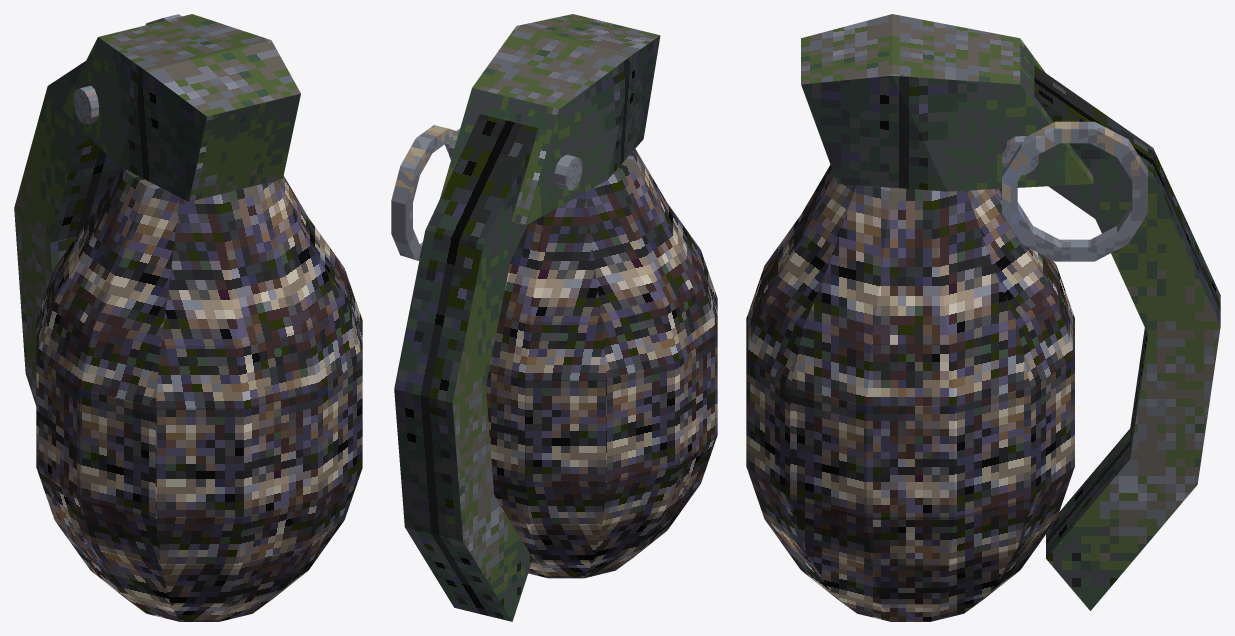
File: Grenade.fbx
3 renders of one model, left to right at view 1: azimuth 30°, elevation 25°; view 2: azimuth 150°, elevation 25°; view 3: azimuth 270°, elevation 25°, orthographic. The views are drawn at different scales.
Parts seen in each view (by area): view 1: Core, head, handle, Pin; view 2: Core, handle, head, trigger, Pin; view 3: Core, handle, head, trigger.
Boxes of the visible parts, bbox=[...] form: Core: bbox=[36, 167, 362, 621]; head: bbox=[62, 14, 300, 201]; handle: bbox=[14, 61, 119, 405]; Pin: bbox=[73, 85, 98, 124]; Core: bbox=[486, 148, 717, 578]; handle: bbox=[394, 114, 538, 621]; head: bbox=[440, 14, 660, 225]; trigger: bbox=[391, 125, 458, 260]; Pin: bbox=[449, 128, 582, 190]; Core: bbox=[746, 165, 1074, 621]; handle: bbox=[1034, 65, 1220, 610]; head: bbox=[801, 14, 1093, 191]; trigger: bbox=[1002, 121, 1147, 261].
Size of the model in its own units: 56.25 by 104 by 81.17.
3 materials, 3 textured.
